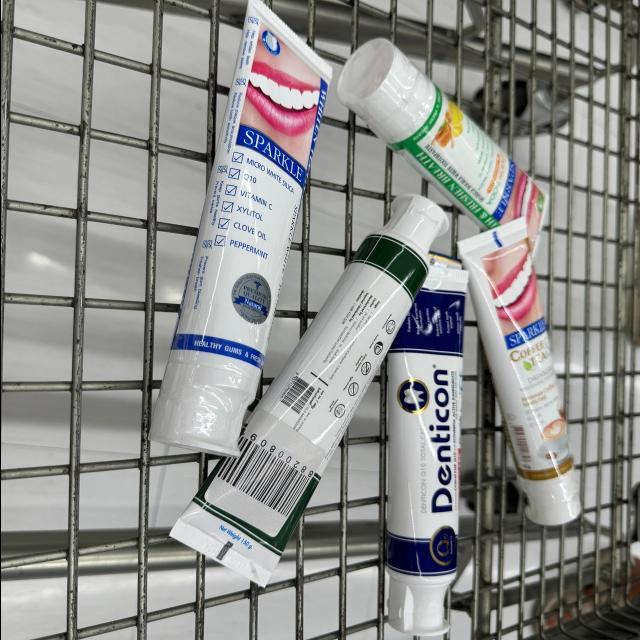Squeeze Tube: (165, 192, 462, 597), (148, 2, 341, 461), (443, 220, 608, 524), (332, 40, 557, 261), (387, 264, 468, 636)
